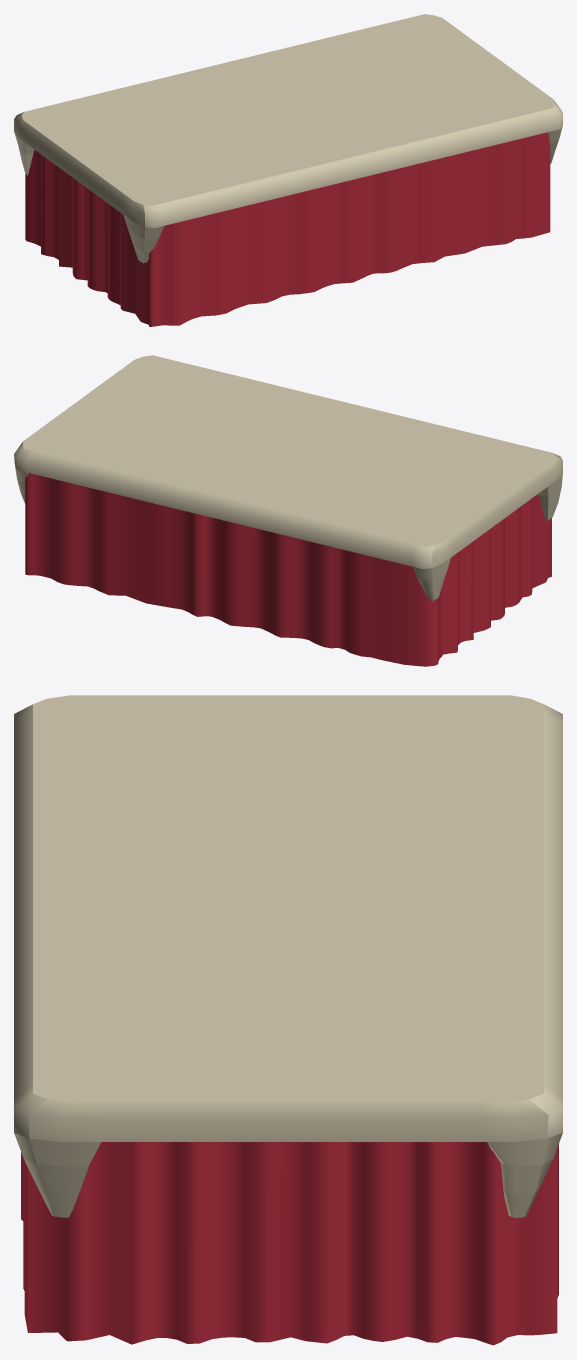
File: Mesa_Grande_FBX.fbx
3 views of the same model, one above another, from view 1: azimuth 30°, elevation 25°; view 2: azimuth 150°, elevation 25°; view 3: azimuth 270°, elevation 25° (orthographic). The views are drawn at different scales.
Visible parts, largest first — view 1: Mesa_Larga; view 2: Mesa_Larga; view 3: Mesa_Larga.
Part boxes in pixels (x1,y1,x2,y2): Mesa_Larga: (14,14,562,326); Mesa_Larga: (14,355,562,666); Mesa_Larga: (14,695,562,1345).
Size of the model in its own units: 3.46 by 0.9516 by 1.95.
